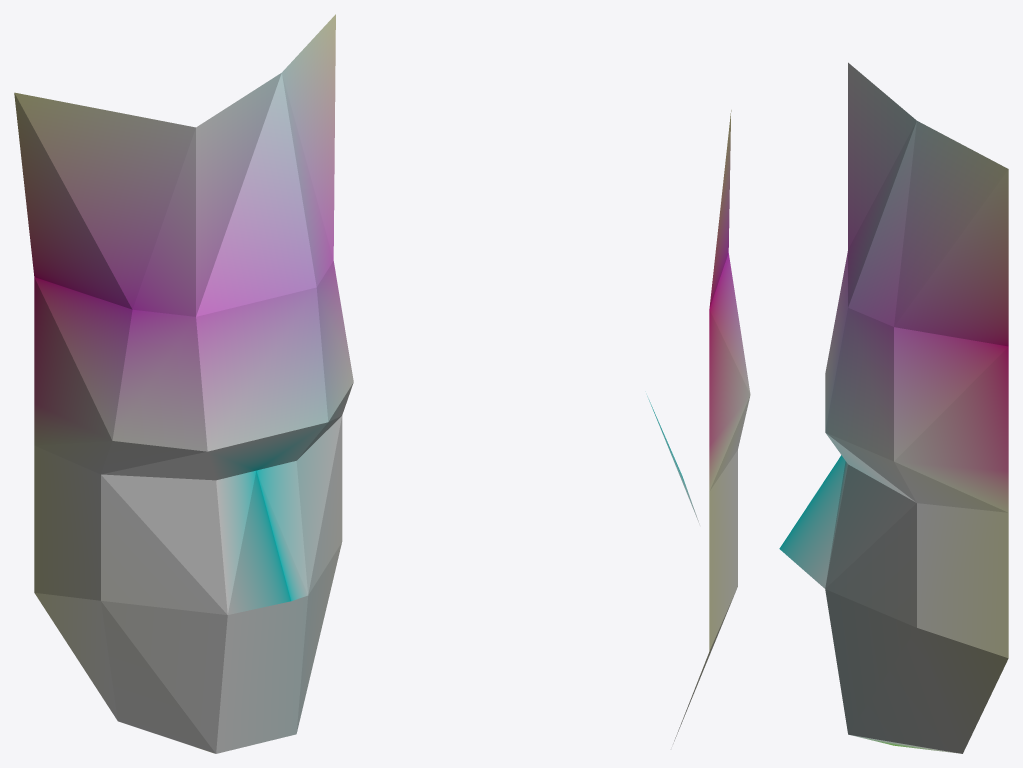
3 renders of one model, left to right at view 1: azimuth 30°, elevation 25°; view 2: azimuth 150°, elevation 25°; view 3: azimuth 270°, elevation 25°, orthographic. The views are drawn at different scales.
Parts seen in each view (by area): view 1: model_140F; view 2: model_140F; view 3: model_140F.
Boxes of the visible parts, x1,y1,x2,y2 form: model_140F: [14, 14, 353, 753]; model_140F: [647, 110, 750, 743]; model_140F: [779, 62, 1008, 753].
Size of the model in its own units: 16 by 31 by 10.
